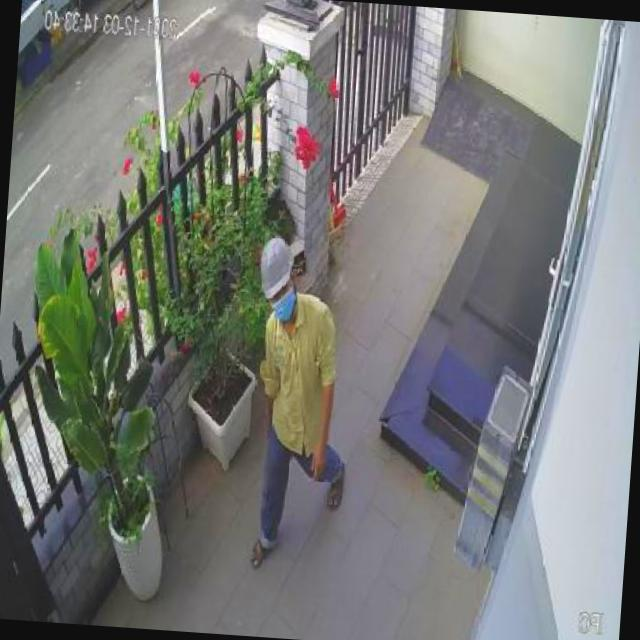Person: (239, 235, 361, 575)
